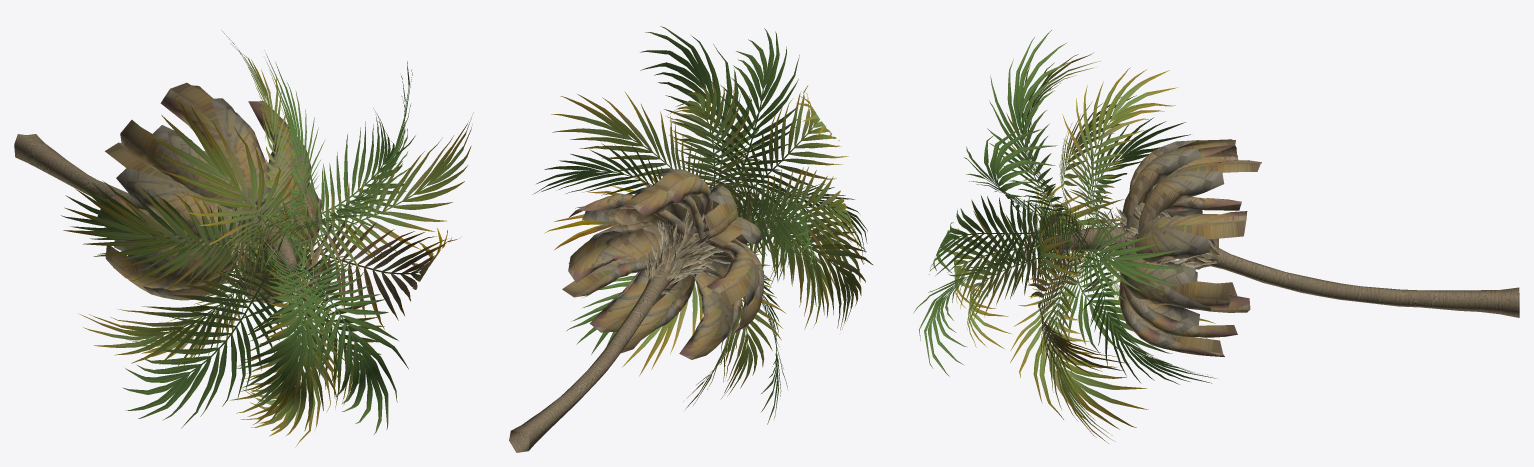
Rendered from Palm.fbx.
The picture shows the model from 3 angles, left to right: view 1: azimuth 30°, elevation 25°; view 2: azimuth 150°, elevation 25°; view 3: azimuth 270°, elevation 25°; orthographic projection. The views are drawn at different scales.
Parts seen in each view (by area): view 1: LOD0; view 2: LOD0; view 3: LOD0.
Boxes of the visible parts, x1,y1,x2,y2 form: LOD0: (14,31,473,447); LOD0: (509,26,872,452); LOD0: (913,30,1519,443).
Bounding box in the file's own units: 21.8 × 23.45 × 32.21.
